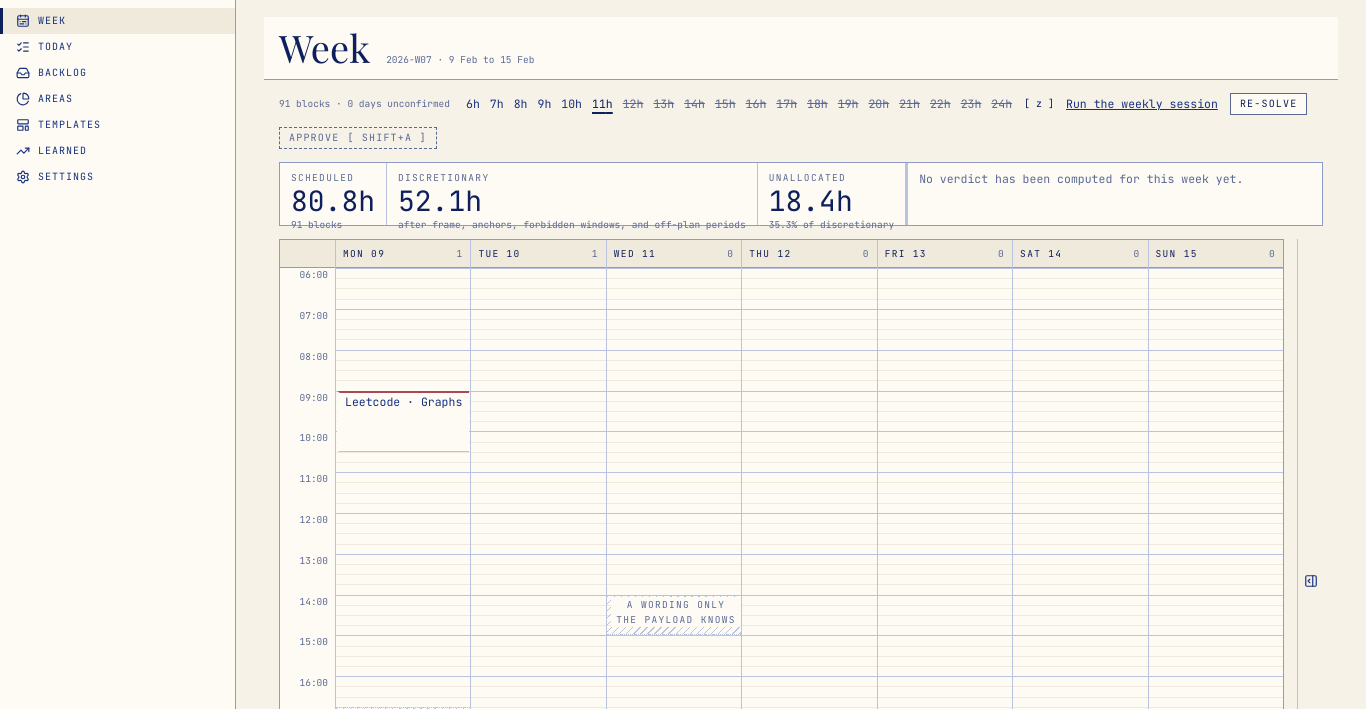
Test case: the detail panel › closes on Escape and clears the selection
Click the button "Leetcode · Graphs": {"x": 403, "y": 421} [337,390,469,452]
(page scrolled)
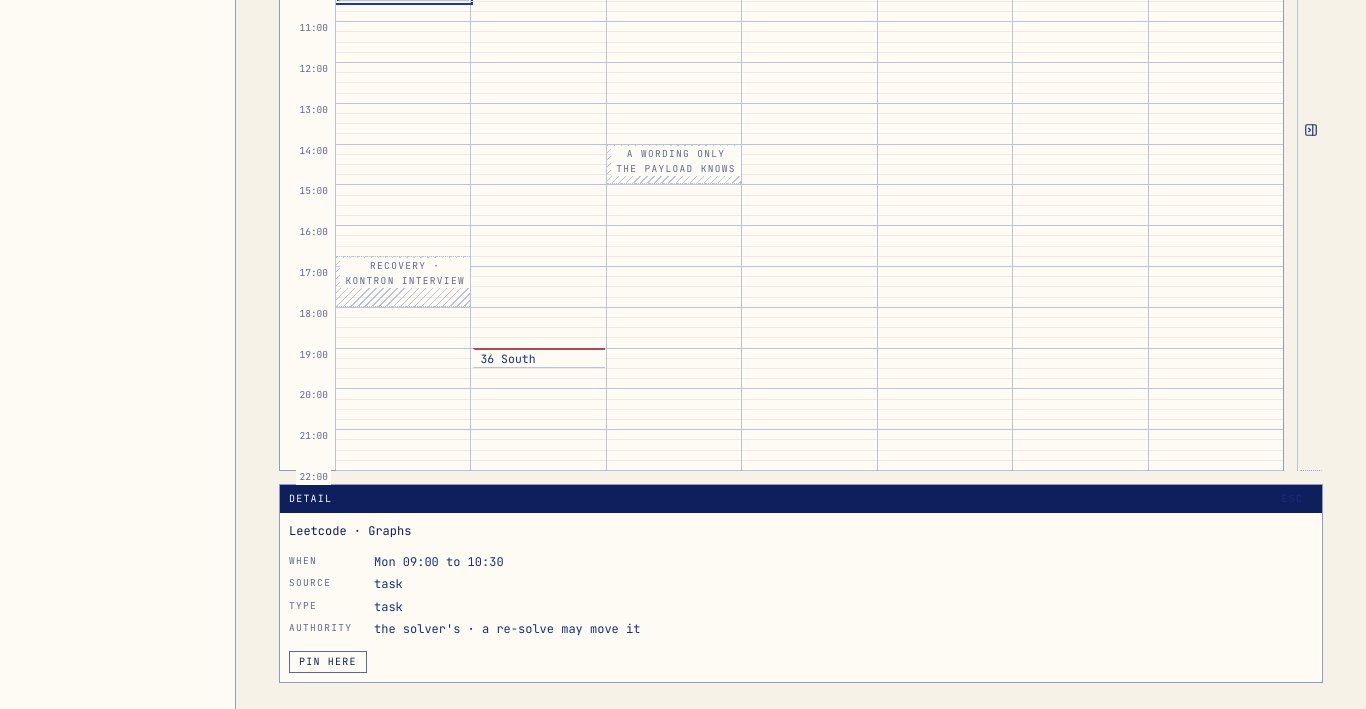
Check: the element labelled "Detail" is shown, box [279,484,1323,683]
Press Escape
(page scrolled)
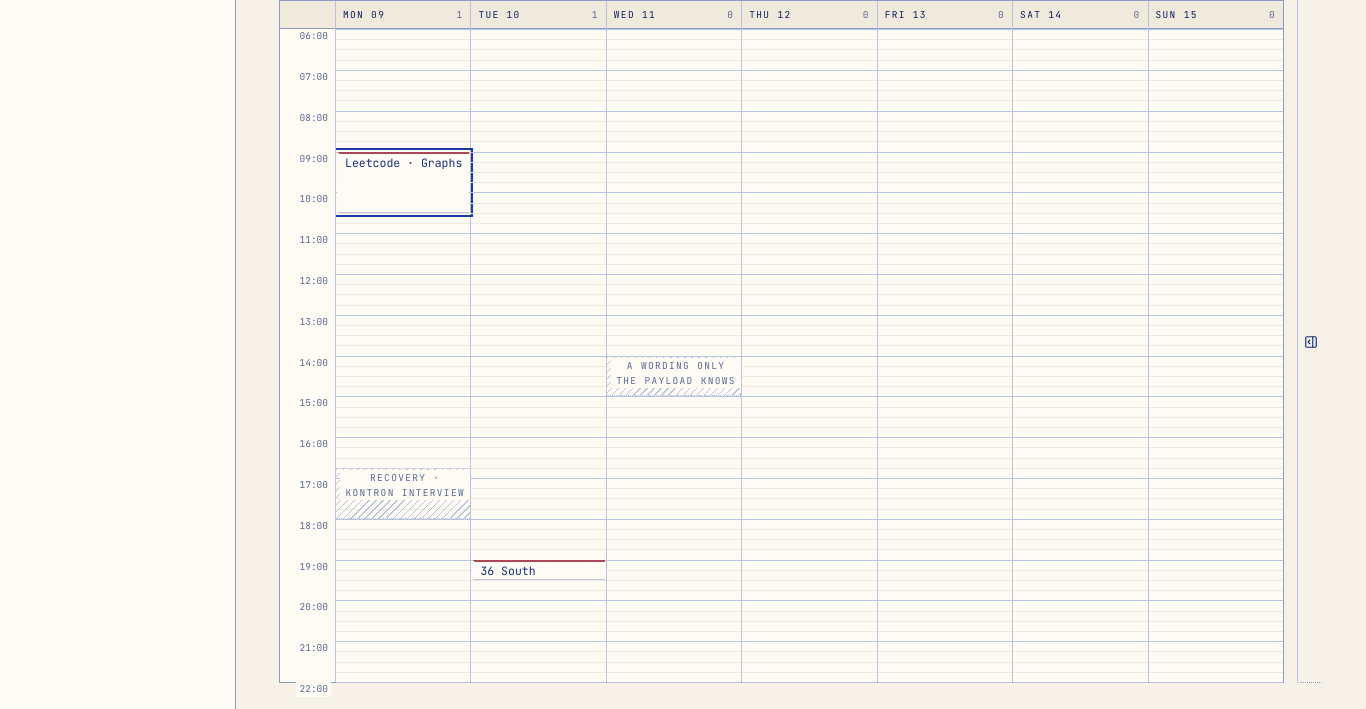
Check: the heading labelled "Detail" is gone
